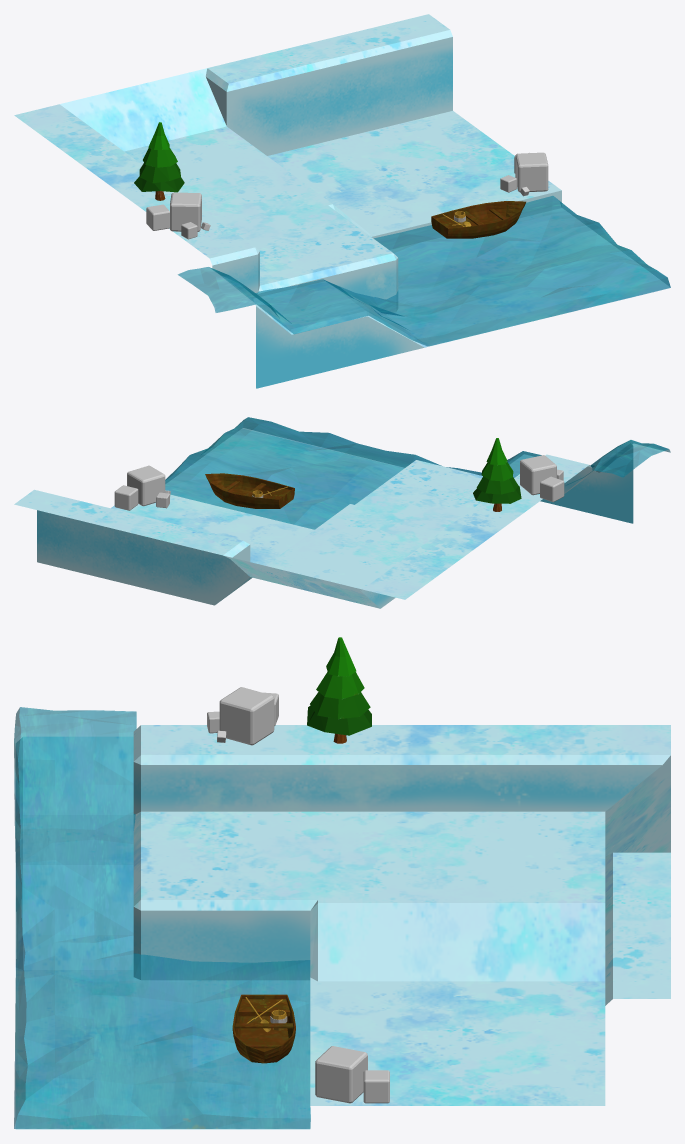
File: lvl_4-cnk_3.obj
3 views of the same model, one above another, from view 1: azimuth 30°, elevation 25°; view 2: azimuth 150°, elevation 25°; view 3: azimuth 270°, elevation 25° (orthographic). The views are drawn at different scales.
Parts seen in each view (by area): view 1: Cube.226, Agua.001, Barca.003, Arbol.009, Hielo.007, Hielo.006; view 2: Cube.226, Agua.001, Barca.003, Arbol.009, Hielo.006, Hielo.007; view 3: Cube.226, Agua.001, Arbol.009, Barca.003, Hielo.006, Hielo.007.
Part boxes in pixels (<box>): Cube.226: <box>14,14,669,388</box>; Agua.001: <box>178,196,670,346</box>; Barca.003: <box>431,201,525,238</box>; Arbol.009: <box>134,122,184,200</box>; Hielo.007: <box>146,192,210,239</box>; Hielo.006: <box>500,152,548,196</box>; Cube.226: <box>14,428,633,608</box>; Agua.001: <box>165,417,670,529</box>; Barca.003: <box>205,473,294,508</box>; Arbol.009: <box>473,438,521,511</box>; Hielo.006: <box>114,465,170,510</box>; Hielo.007: <box>520,455,564,502</box>; Cube.226: <box>15,725,670,1129</box>; Agua.001: <box>14,707,310,1128</box>; Arbol.009: <box>307,637,371,743</box>; Barca.003: <box>232,994,295,1063</box>; Hielo.006: <box>315,1046,389,1103</box>; Hielo.007: <box>207,687,278,745</box>.
Size of the model in its own units: 109 by 39.34 by 100.
Materials: 4 (3 with a texture image).
